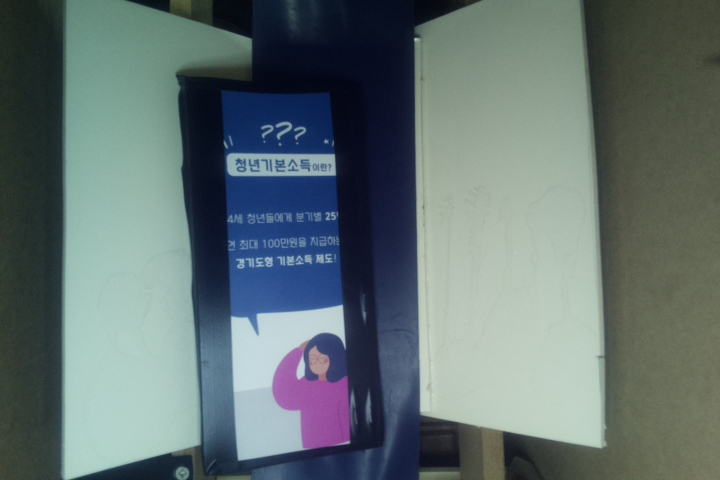book: (175, 73, 384, 476)
